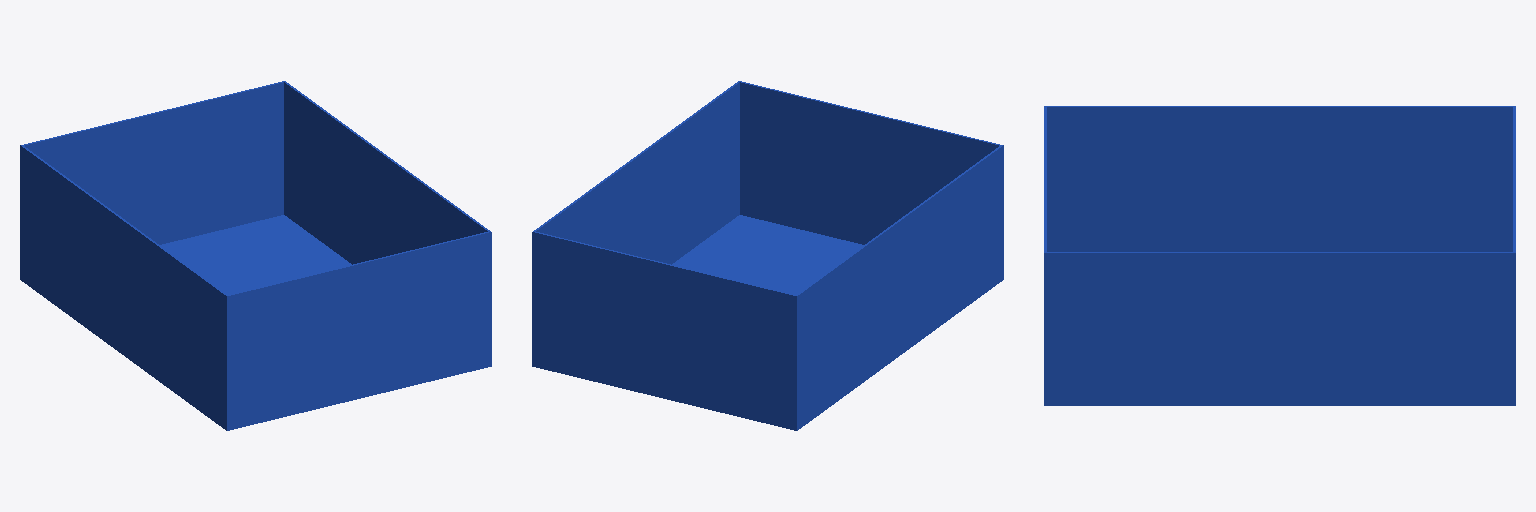
robot.urdf — rectangular_basin:
<?xml version="1.0" encoding="utf-8"?>
<robot name="rectangular_basin">
  <!-- Rectangular basin: 37×50×18 cm, wall thickness 3mm -->
  <!-- Origin at bottom center. X=length, Y=width, Z=height -->

  <!-- Materials -->
  <material name="basin_blue">
    <color rgba="0.2 0.4 0.8 0.7"/>
  </material>

  <!-- Virtual base link (no geometry, no inertia) -->
  <link name="base_link"/>

  <!-- Bottom plate: 37×50×0.3 cm -->
  <link name="bottom">
    <visual>
      <geometry>
        <box size="0.37 0.50 0.003"/>
      </geometry>
      <material name="basin_blue"/>
    </visual>
    <collision>
      <geometry>
        <box size="0.37 0.50 0.003"/>
      </geometry>
    </collision>
  </link>
  <joint name="bottom_joint" type="fixed">
    <parent link="base_link"/>
    <child link="bottom"/>
    <origin xyz="0 0 0.0015" rpy="0 0 0"/>
  </joint>

  <!-- Front wall (Y+): 37×0.3×18 cm -->
  <link name="front_wall">
    <visual>
      <geometry>
        <box size="0.37 0.003 0.18"/>
      </geometry>
      <material name="basin_blue"/>
    </visual>
    <collision>
      <geometry>
        <box size="0.37 0.003 0.18"/>
      </geometry>
    </collision>
  </link>
  <joint name="front_joint" type="fixed">
    <parent link="base_link"/>
    <child link="front_wall"/>
    <origin xyz="0 0.2485 0.09" rpy="0 0 0"/>
  </joint>

  <!-- Back wall (Y-): 37×0.3×18 cm -->
  <link name="back_wall">
    <visual>
      <geometry>
        <box size="0.37 0.003 0.18"/>
      </geometry>
      <material name="basin_blue"/>
    </visual>
    <collision>
      <geometry>
        <box size="0.37 0.003 0.18"/>
      </geometry>
    </collision>
  </link>
  <joint name="back_joint" type="fixed">
    <parent link="base_link"/>
    <child link="back_wall"/>
    <origin xyz="0 -0.2485 0.09" rpy="0 0 0"/>
  </joint>

  <!-- Left wall (X-): 0.3×49.4×18 cm -->
  <link name="left_wall">
    <visual>
      <geometry>
        <box size="0.003 0.494 0.18"/>
      </geometry>
      <material name="basin_blue"/>
    </visual>
    <collision>
      <geometry>
        <box size="0.003 0.494 0.18"/>
      </geometry>
    </collision>
  </link>
  <joint name="left_joint" type="fixed">
    <parent link="base_link"/>
    <child link="left_wall"/>
    <origin xyz="-0.1835 0 0.09" rpy="0 0 0"/>
  </joint>

  <!-- Right wall (X+): 0.3×49.4×18 cm -->
  <link name="right_wall">
    <visual>
      <geometry>
        <box size="0.003 0.494 0.18"/>
      </geometry>
      <material name="basin_blue"/>
    </visual>
    <collision>
      <geometry>
        <box size="0.003 0.494 0.18"/>
      </geometry>
    </collision>
  </link>
  <joint name="right_joint" type="fixed">
    <parent link="base_link"/>
    <child link="right_wall"/>
    <origin xyz="0.1835 0 0.09" rpy="0 0 0"/>
  </joint>

</robot>

--- What the picture shows (computed from the rendered views, not written in the file) ---
The picture shows the robot from 3 angles, left to right: view 1: azimuth 30°, elevation 25°; view 2: azimuth 150°, elevation 25°; view 3: azimuth 270°, elevation 25°; orthographic projection.
Model rectangular_basin with 6 links and 5 joints (5 fixed), rooted at base_link, posed all joints at 0.
Visible links, largest first — view 1: back_wall, left_wall, front_wall, right_wall, bottom; view 2: front_wall, left_wall, back_wall, right_wall, bottom; view 3: right_wall, left_wall, front_wall, back_wall, bottom.
Boxes of the visible links, x1,y1,x2,y2 form: back_wall: (226, 231, 491, 428); left_wall: (22, 146, 226, 429); front_wall: (20, 81, 285, 279); right_wall: (284, 82, 489, 264); bottom: (20, 215, 491, 430); front_wall: (532, 231, 797, 429); left_wall: (797, 146, 1001, 429); back_wall: (738, 81, 1003, 279); right_wall: (534, 82, 739, 264); bottom: (532, 215, 1003, 430); right_wall: (1047, 252, 1512, 405); left_wall: (1047, 106, 1512, 251); front_wall: (1513, 106, 1515, 405); back_wall: (1044, 106, 1046, 405); bottom: (1044, 404, 1515, 405).
Size in the robot's own frame: 0.37 by 0.5 by 0.18 metres.
Geometry: primitives only (box / cylinder / sphere), no mesh files.
